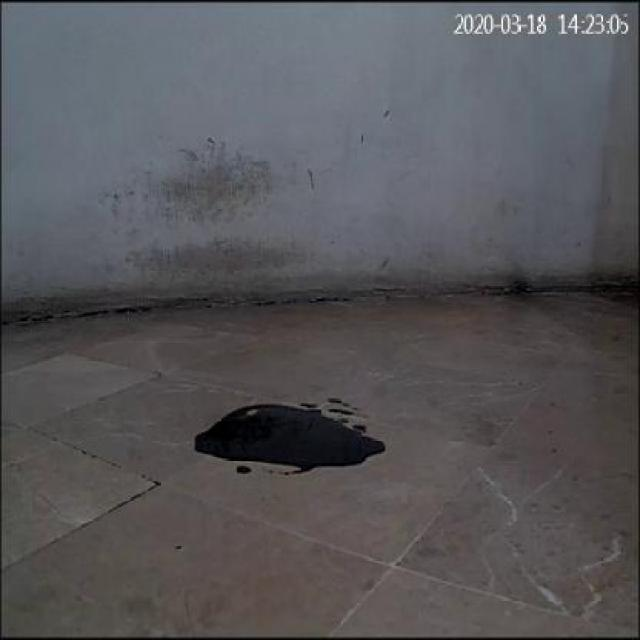spill: (194, 404, 383, 472)
